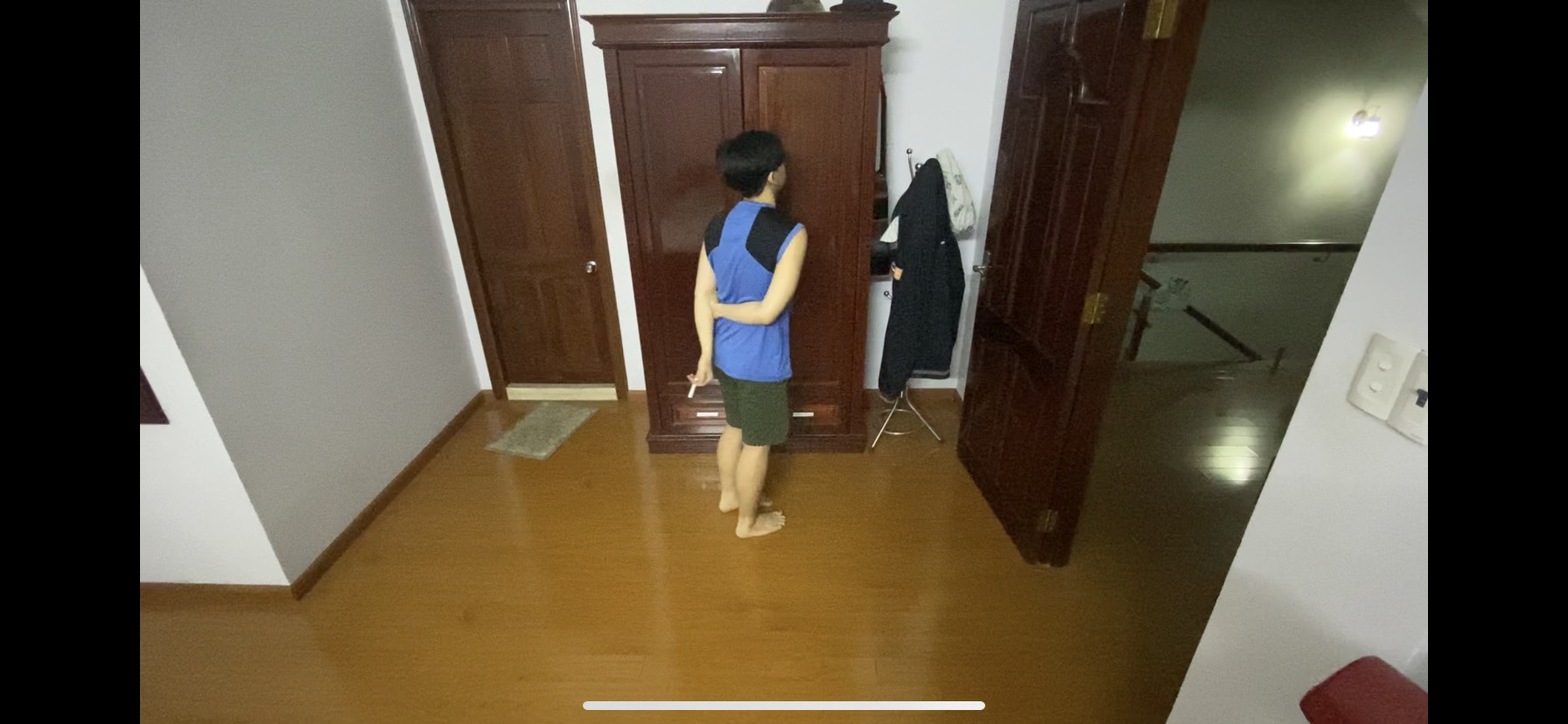cigarette: (687, 384, 698, 401)
person: (671, 119, 816, 556)
